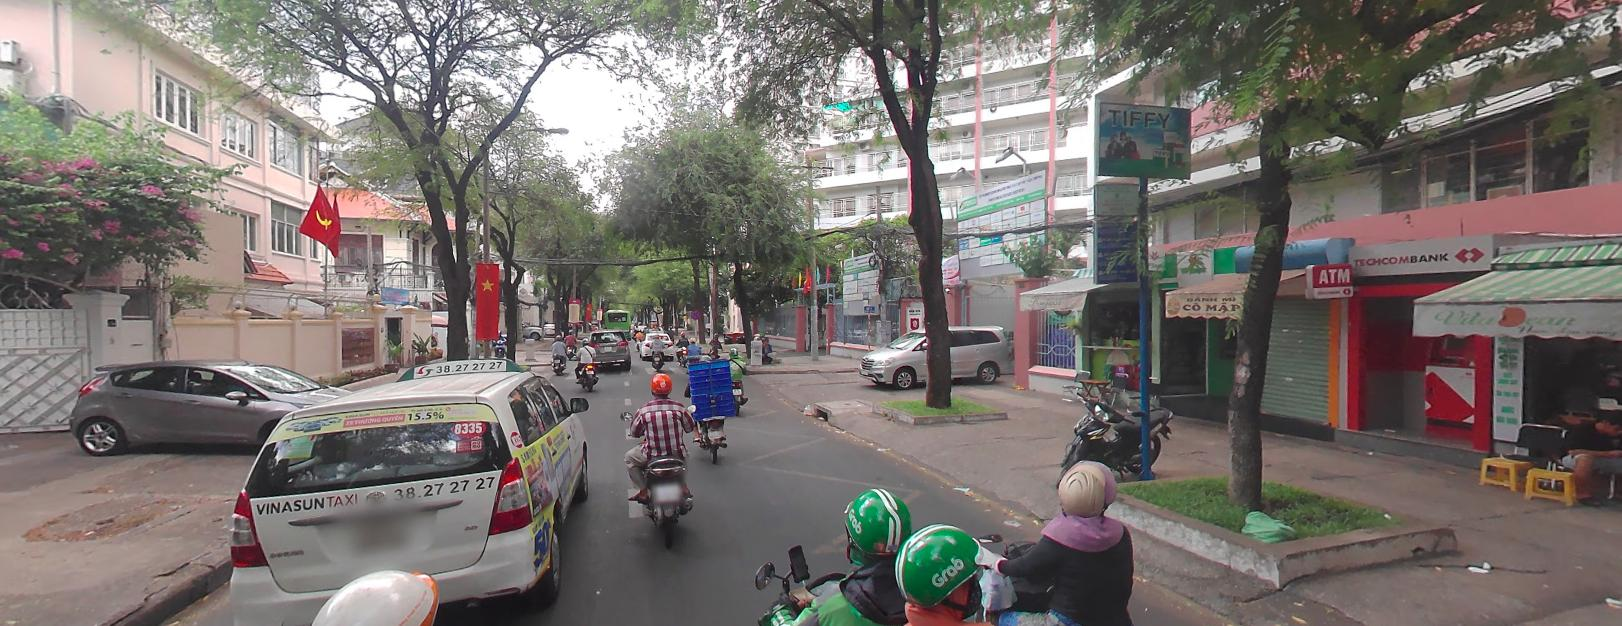Cam dung va do: (690, 307, 700, 317)
